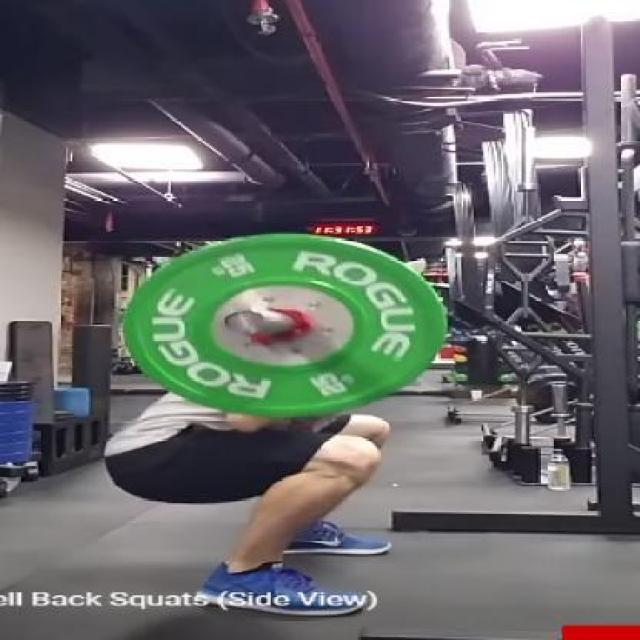barbell: (220, 307, 285, 338)
